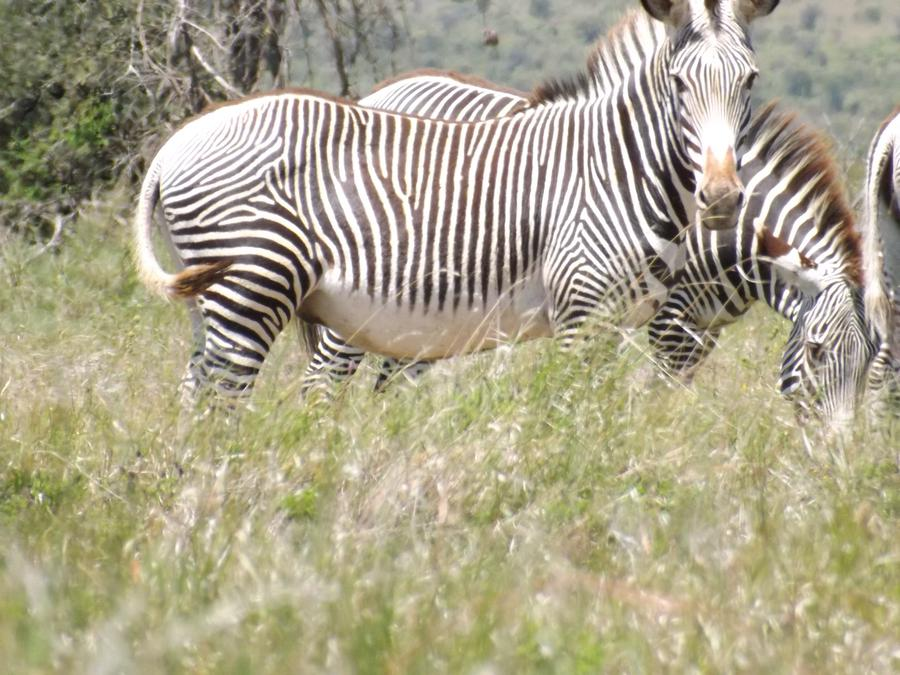zebra_grevys: (144, 76, 646, 323)
